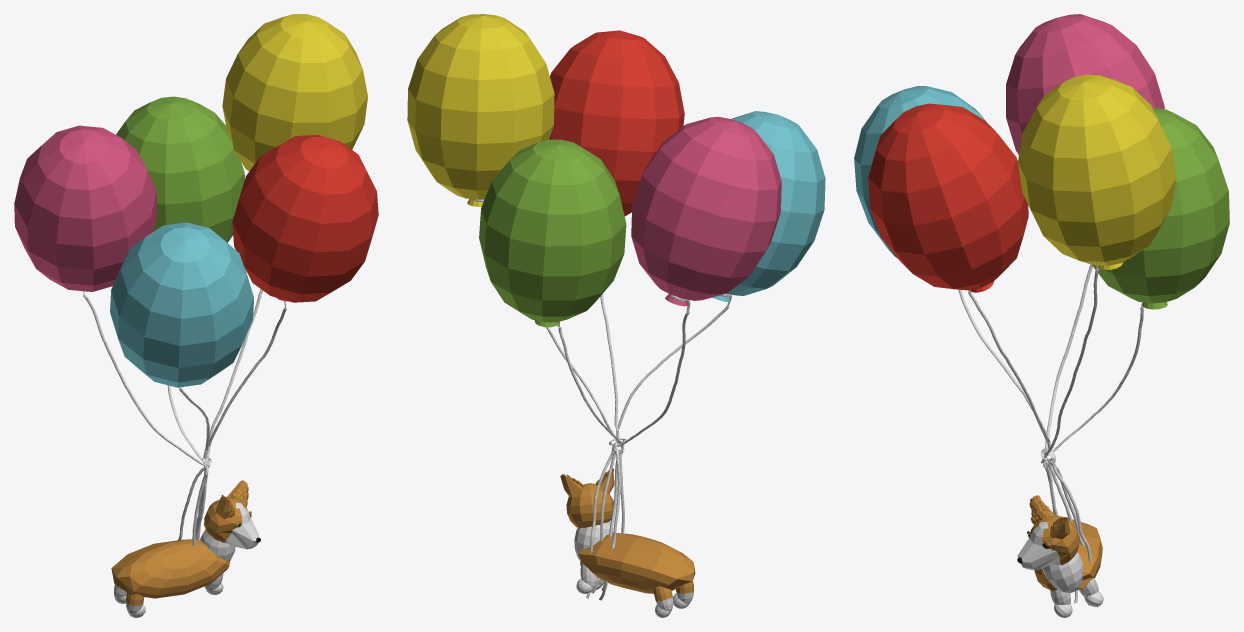
3 renders of one model, left to right at view 1: azimuth 30°, elevation 25°; view 2: azimuth 150°, elevation 25°; view 3: azimuth 270°, elevation 25°, orthographic. The views are drawn at different scales.
Visible parts, largest first — view 1: node_MeshObject490576256-PolyPaper21, node_MeshObject-546863872-PolyPaper19, node_MeshObject1528016384-PolyPaper21, node_MeshObject1009296320-PolyPaper21; view 2: node_MeshObject490576256-PolyPaper21, node_MeshObject-546863872-PolyPaper19, node_MeshObject1009296320-PolyPaper21, node_MeshObject1528016384-PolyPaper21; view 3: node_MeshObject1009296320-PolyPaper21, node_MeshObject1528016384-PolyPaper21, node_MeshObject-546863872-PolyPaper19, node_MeshObject490576256-PolyPaper21.
Boxes of the visible parts, x1,y1,x2,y2 form: node_MeshObject490576256-PolyPaper21: (14, 125, 286, 539); node_MeshObject-546863872-PolyPaper19: (111, 96, 260, 617); node_MeshObject1528016384-PolyPaper21: (179, 135, 378, 546); node_MeshObject1009296320-PolyPaper21: (83, 14, 367, 473); node_MeshObject490576256-PolyPaper21: (535, 111, 825, 590); node_MeshObject-546863872-PolyPaper19: (479, 139, 695, 617); node_MeshObject1009296320-PolyPaper21: (407, 14, 699, 453); node_MeshObject1528016384-PolyPaper21: (467, 30, 684, 598); node_MeshObject1009296320-PolyPaper21: (975, 74, 1176, 466); node_MeshObject1528016384-PolyPaper21: (868, 103, 1123, 607); node_MeshObject-546863872-PolyPaper19: (1006, 107, 1229, 617); node_MeshObject490576256-PolyPaper21: (854, 14, 1167, 603).
Bounding box in the file's own units: 1.84 × 2.8 × 1.62.
